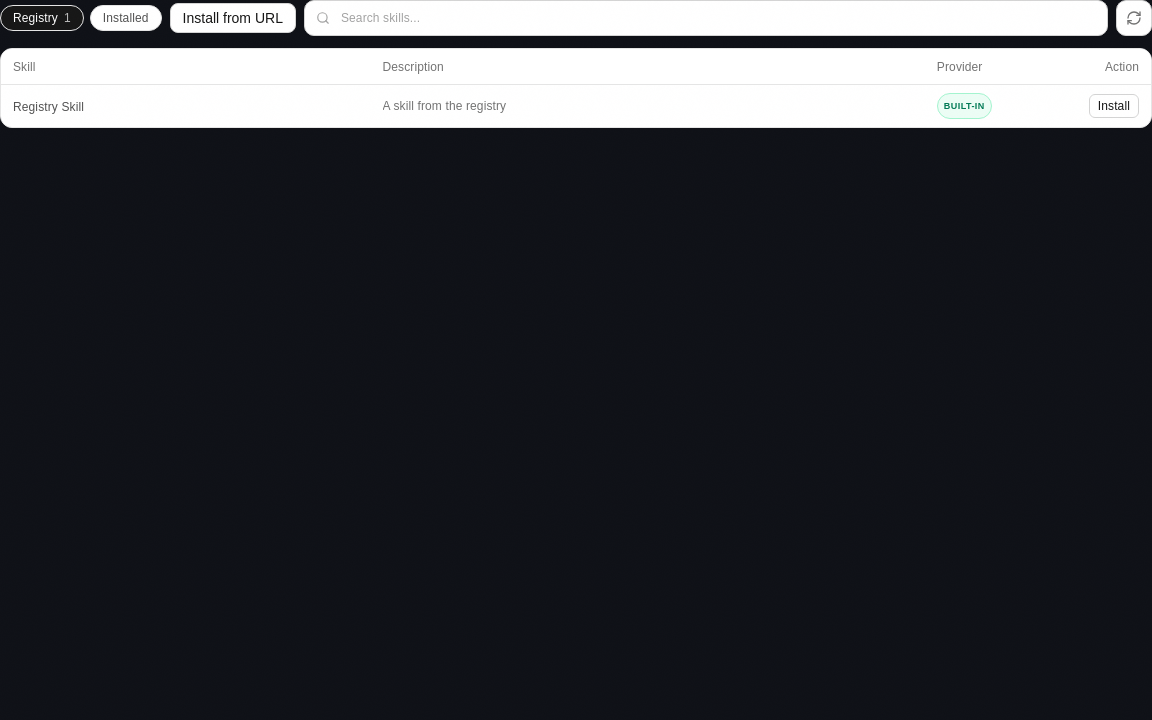
Test: SkillsExplorerTab › shows install button in detail dialog footer for non-installed registry entry
The width and height of the screenshot is (1152, 720).
Click tile to open detail dialog
Click the button with test id "registry-tile-registry-skill-1". click: (444, 106)
box: [1,85,1151,127]
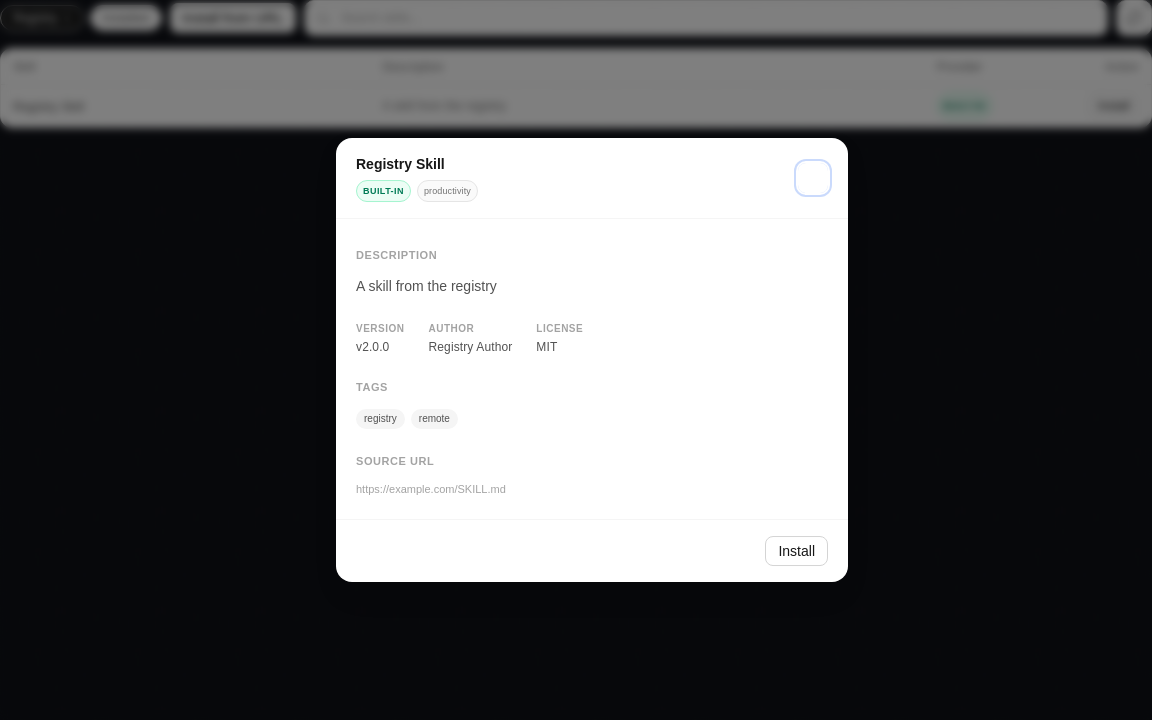
Result: the number of buttons "Install" is 1 at [765,536,828,566]
Result: the dialog named "Install" is shown at [336,138,848,582]
